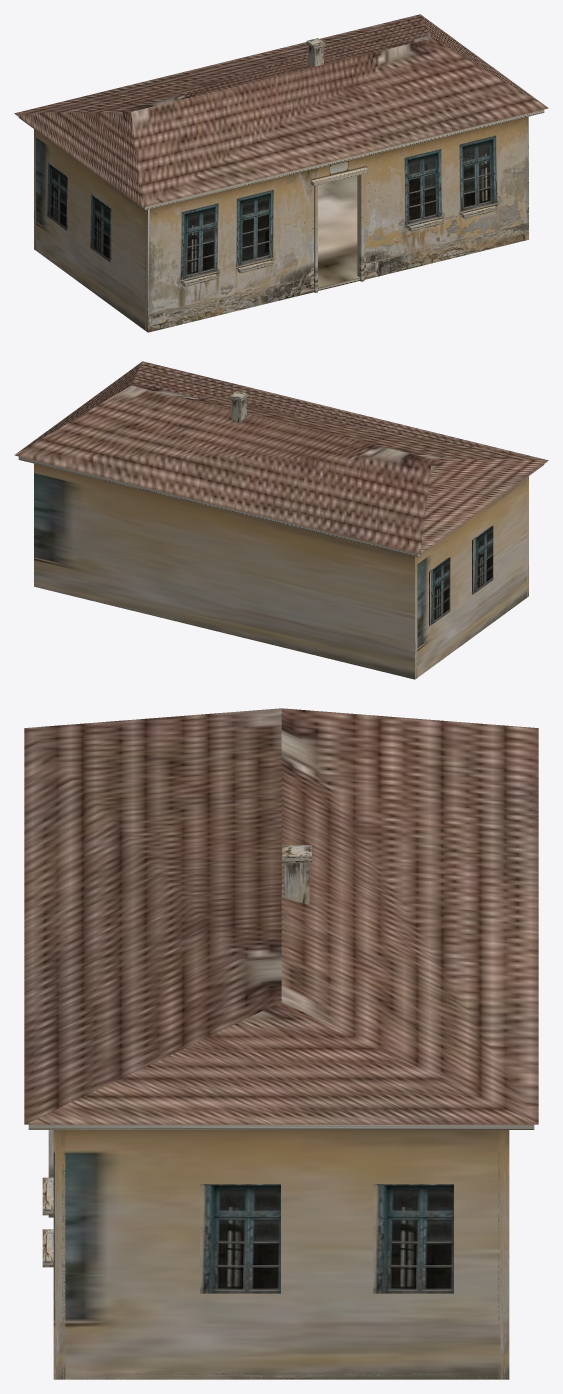
File: mektep.glb
The picture shows the model from 3 angles, top to bottom: view 1: azimuth 30°, elevation 25°; view 2: azimuth 150°, elevation 25°; view 3: azimuth 270°, elevation 25°; orthographic projection. The views are drawn at different scales.
Parts seen in each view (by area): view 1: mektep; view 2: mektep; view 3: mektep.
Part boxes in pixels (<box>): mektep: <box>14,14,548,332</box>; mektep: <box>14,361,548,679</box>; mektep: <box>24,708,538,1379</box>.
Size of the model in its own units: 12.16 by 5.43 by 6.66.
Materials: 1 (1 with a texture image).
